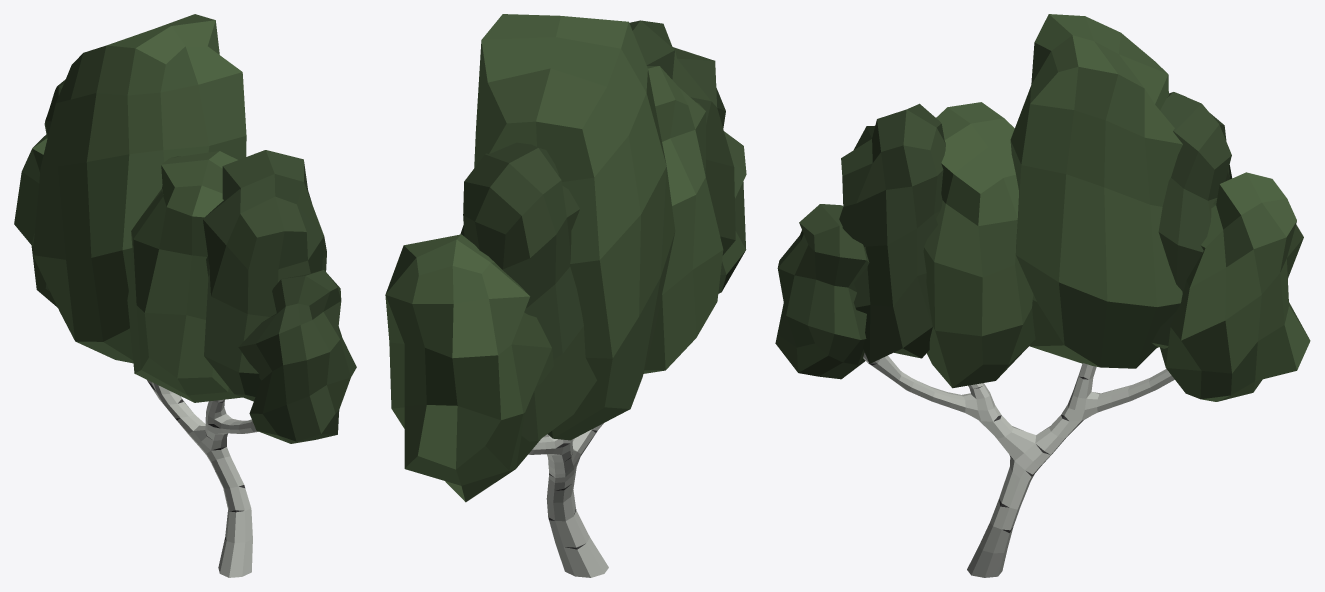
File: birch-4.glb
The picture shows the model from 3 angles, left to right: view 1: azimuth 30°, elevation 25°; view 2: azimuth 150°, elevation 25°; view 3: azimuth 270°, elevation 25°; orthographic projection. The views are drawn at different scales.
Parts seen in each view (by area): view 1: BirchTree_4; view 2: BirchTree_4; view 3: BirchTree_4.
Part boxes in pixels (box(x1,y1,x2,y2)): BirchTree_4: box(14, 14, 356, 577); BirchTree_4: box(385, 14, 746, 577); BirchTree_4: box(775, 14, 1310, 577).
Size of the model in its own units: 1.15 by 3.56 by 3.29.
